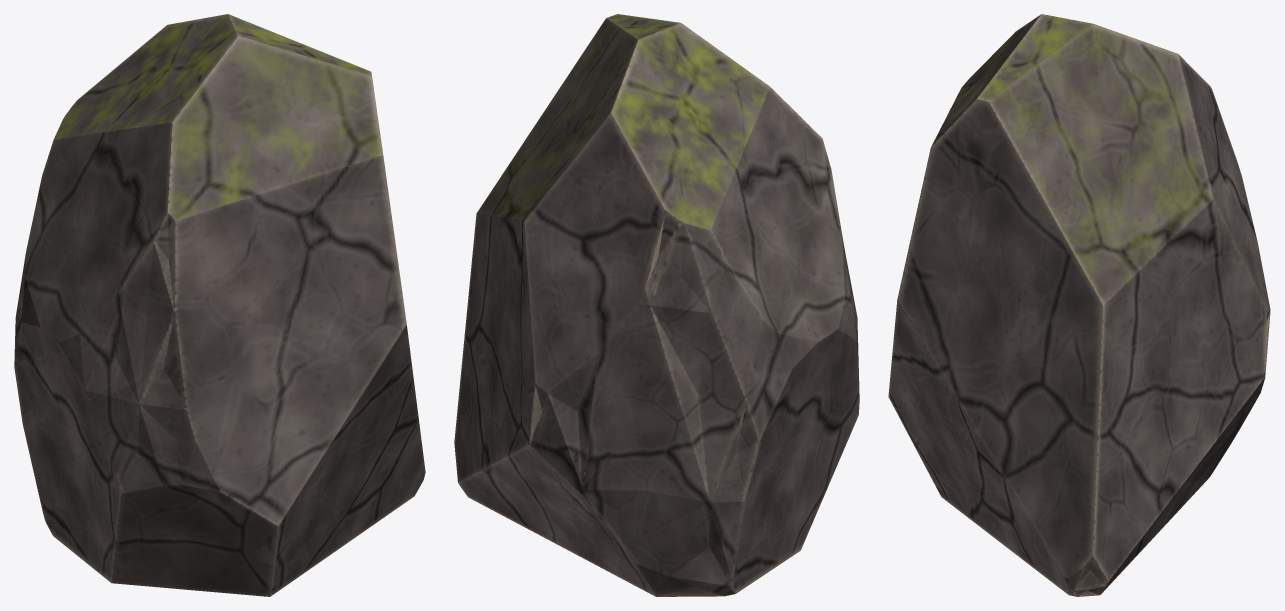
The model's file is Stone_Tall_A.fbx.
3 renders of one model, left to right at view 1: azimuth 30°, elevation 25°; view 2: azimuth 150°, elevation 25°; view 3: azimuth 270°, elevation 25°, orthographic. The views are drawn at different scales.
Visible parts, largest first — view 1: Stone_Tall_A; view 2: Stone_Tall_A; view 3: Stone_Tall_A.
Part boxes in pixels (<box>): Stone_Tall_A: <box>14,14,425,596</box>; Stone_Tall_A: <box>454,14,859,596</box>; Stone_Tall_A: <box>888,14,1270,596</box>.
Bounding box in the file's own units: 0.47 × 0.6113 × 0.4296.
